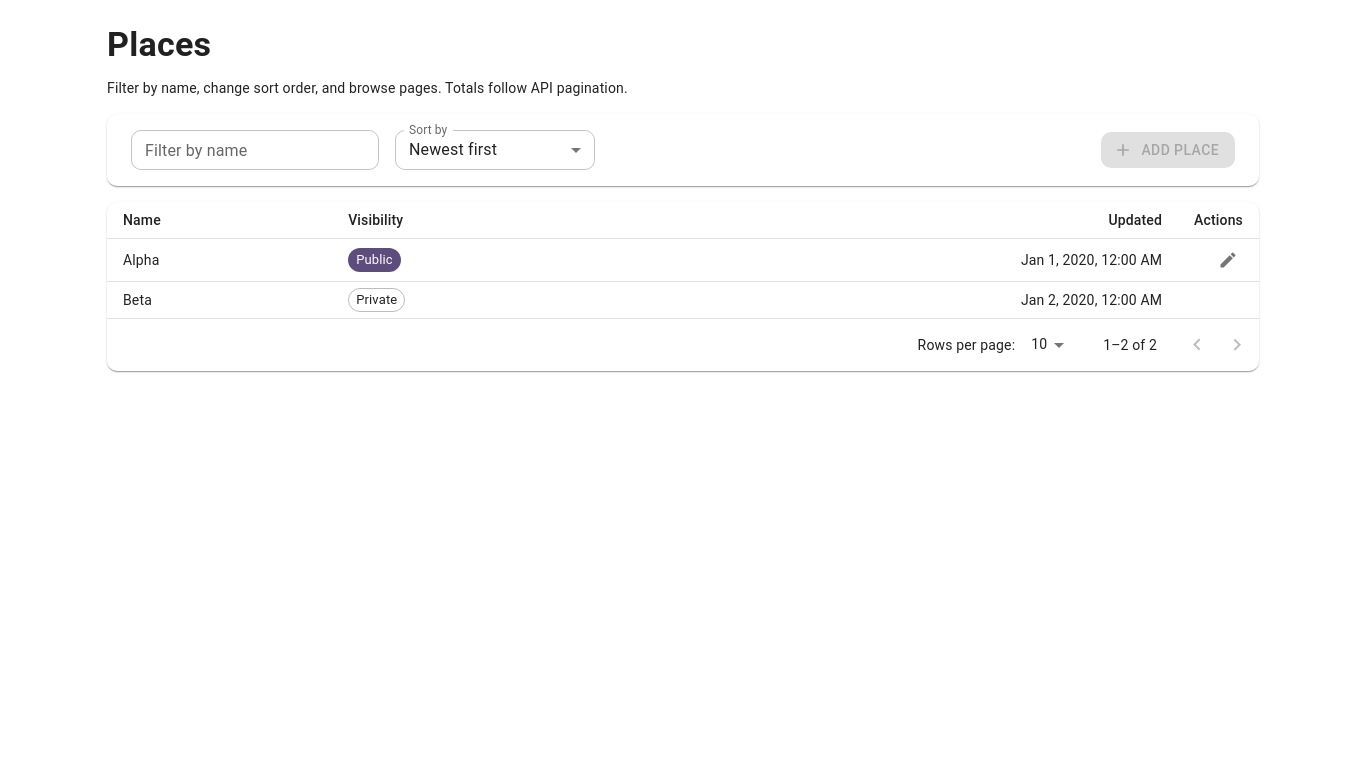
Test case: PlacesPage › opens edit dialog when can_manage
Click the button named "edit alpha" at (1228, 260), box [1213,245,1243,275]
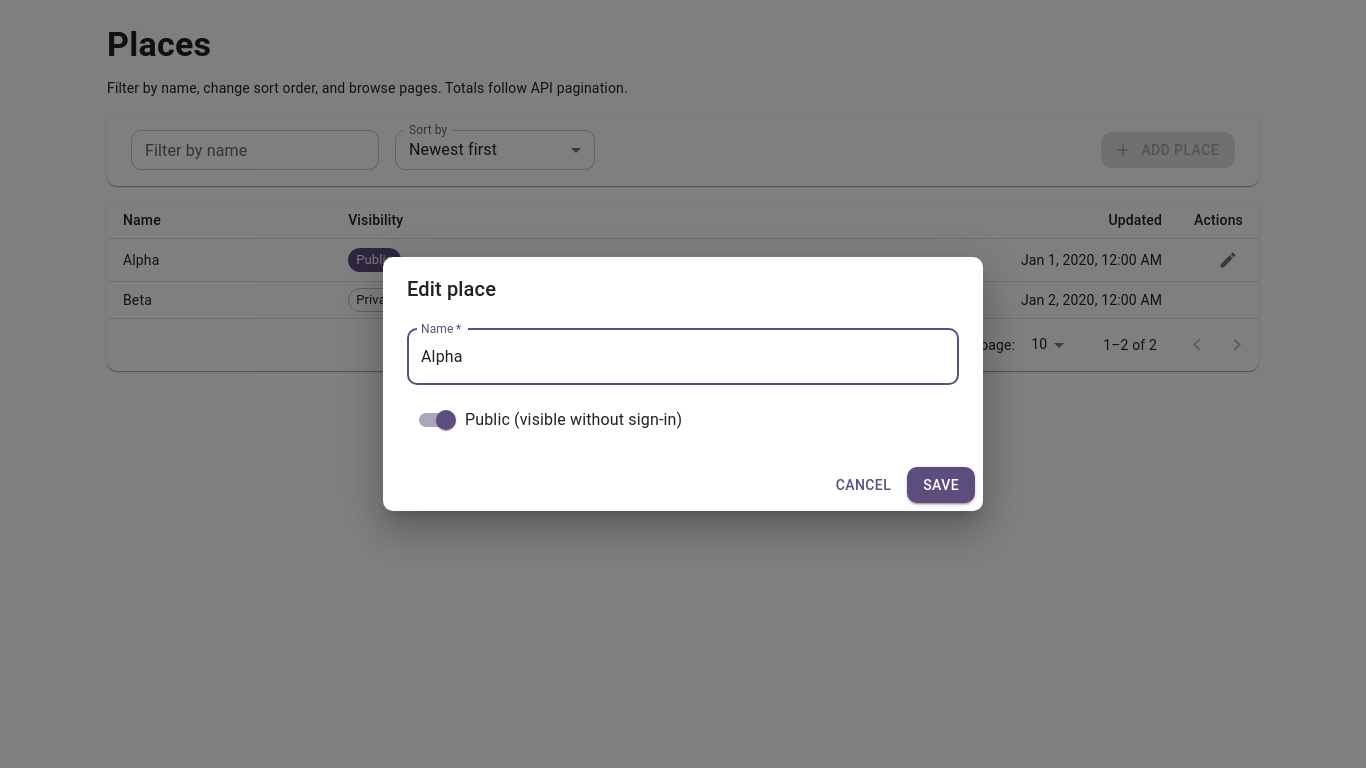
Expected: the dialog "Edit place" is shown, [383,257,983,511]
